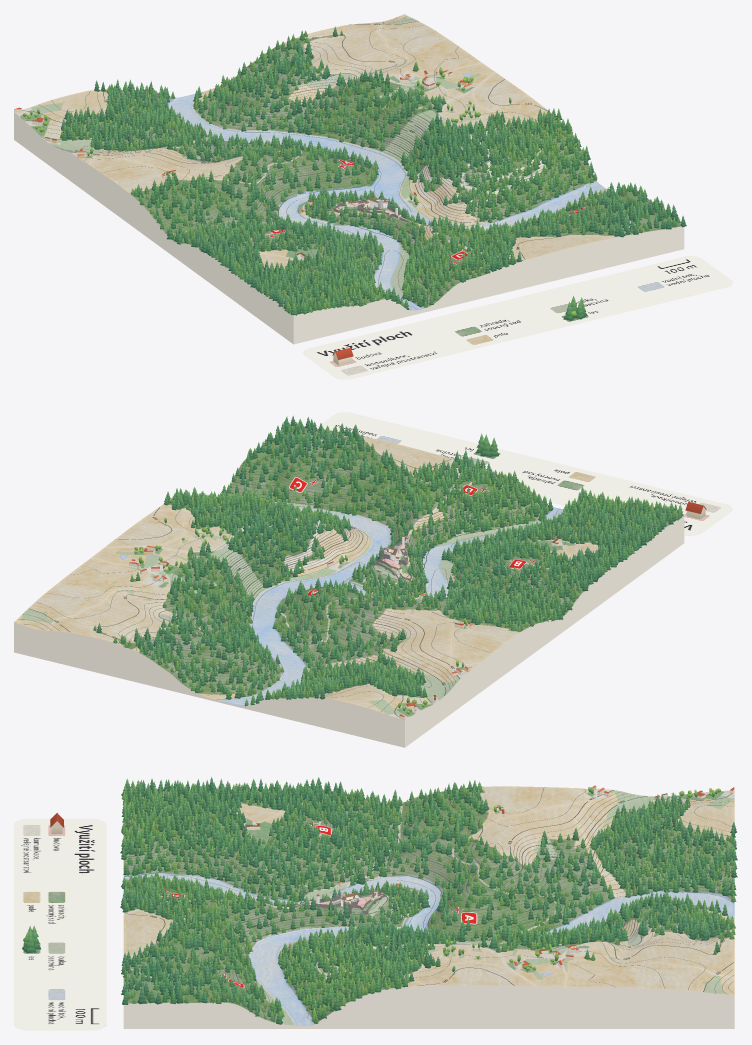
The model's file is Zvikov_sada3_otazka2.glb.
3 views of the same model, one above another, from view 1: azimuth 30°, elevation 25°; view 2: azimuth 150°, elevation 25°; view 3: azimuth 270°, elevation 25° (orthographic). The views are drawn at different scales.
Visible parts, largest first — view 1: DMR_1953, Zvikov_stromy_body_SMO5, legenda_panel, vrstevnice, Zvikov_SMO5_budovy, Node0, legenda_objekty; view 2: DMR_1953, Zvikov_stromy_body_SMO5, legenda_panel, vrstevnice, Zvikov_SMO5_budovy, Node0, legenda_objekty; view 3: DMR_1953, Zvikov_stromy_body_SMO5, legenda_panel, vrstevnice, Zvikov_SMO5_budovy, Node0, legenda_objekty.
Part boxes in pixels (bbox=[...]): DMR_1953: bbox=[14, 14, 684, 344]; Zvikov_stromy_body_SMO5: bbox=[23, 26, 686, 315]; legenda_panel: bbox=[303, 256, 732, 379]; vrstevnice: bbox=[22, 16, 678, 309]; Zvikov_SMO5_budovy: bbox=[14, 70, 471, 258]; Node0: bbox=[328, 197, 411, 222]; legenda_objekty: bbox=[332, 295, 587, 365]; DMR_1953: bbox=[14, 425, 684, 747]; Zvikov_stromy_body_SMO5: bbox=[93, 415, 683, 714]; legenda_panel: bbox=[316, 412, 732, 535]; vrstevnice: bbox=[19, 430, 624, 716]; Zvikov_SMO5_budovy: bbox=[129, 538, 561, 719]; Node0: bbox=[373, 535, 411, 583]; legenda_objekty: bbox=[476, 433, 706, 519]; DMR_1953: bbox=[123, 786, 734, 1028]; Zvikov_stromy_body_SMO5: bbox=[120, 777, 737, 1024]; legenda_panel: bbox=[14, 818, 106, 1030]; vrstevnice: bbox=[124, 787, 733, 1023]; Zvikov_SMO5_budovy: bbox=[246, 785, 734, 968]; Node0: bbox=[295, 889, 386, 914]; legenda_objekty: bbox=[22, 813, 63, 953].
Bounding box in the file's own units: 1491 × 188 × 2151.
Materials: 11 (7 with a texture image).
